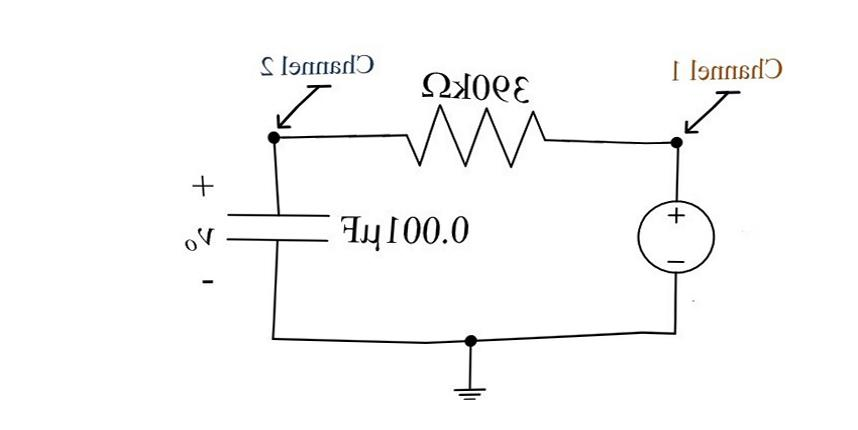Battery: (613, 187, 732, 296)
